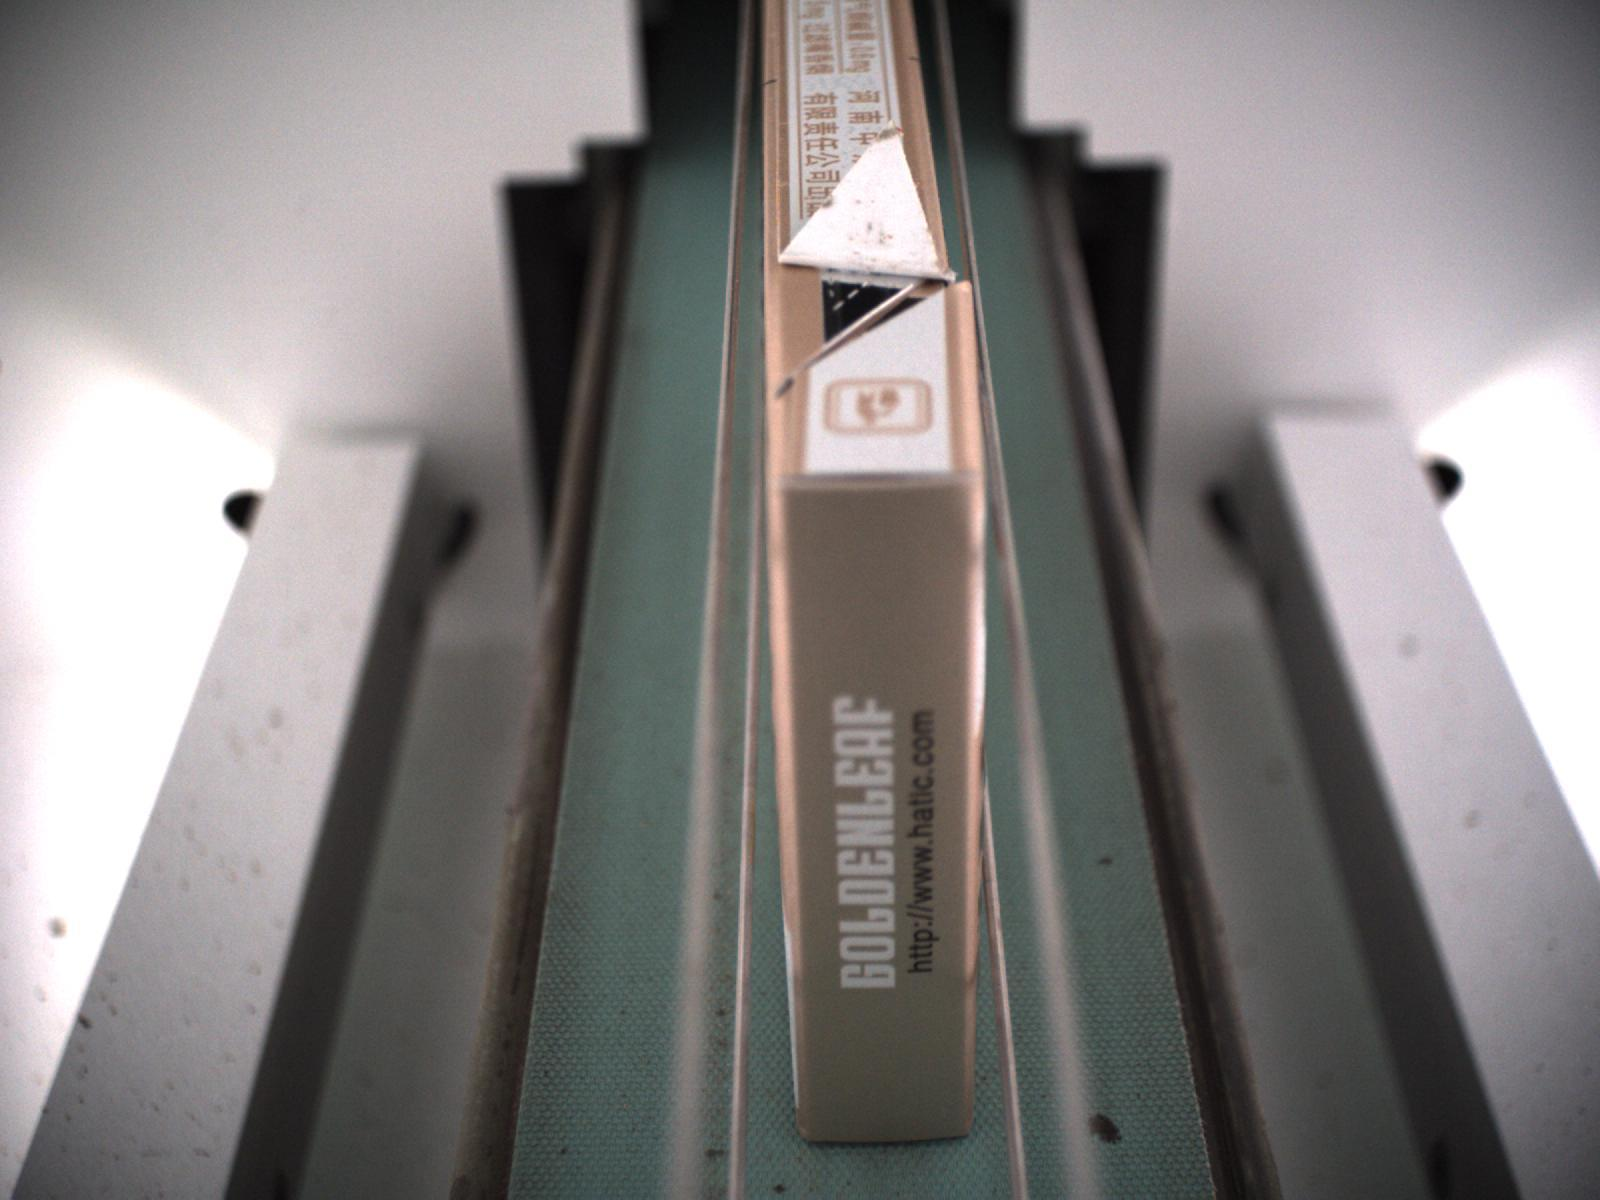outerFold_upper_2: (767, 122, 974, 395)
